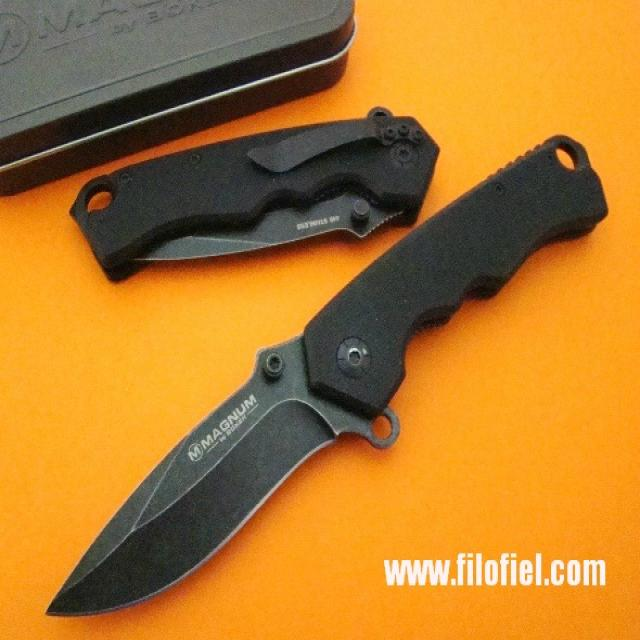knife: (45, 134, 610, 624)
